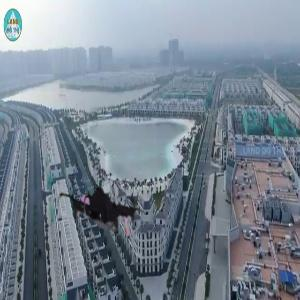drone: (55, 161, 154, 260)
